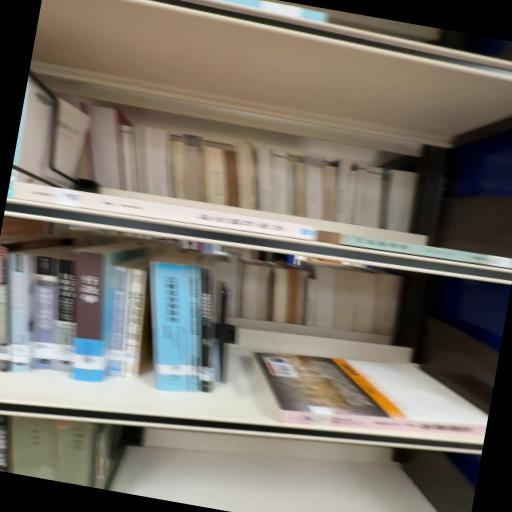flat: (253, 352, 489, 436), (8, 183, 317, 241), (318, 232, 512, 270)
